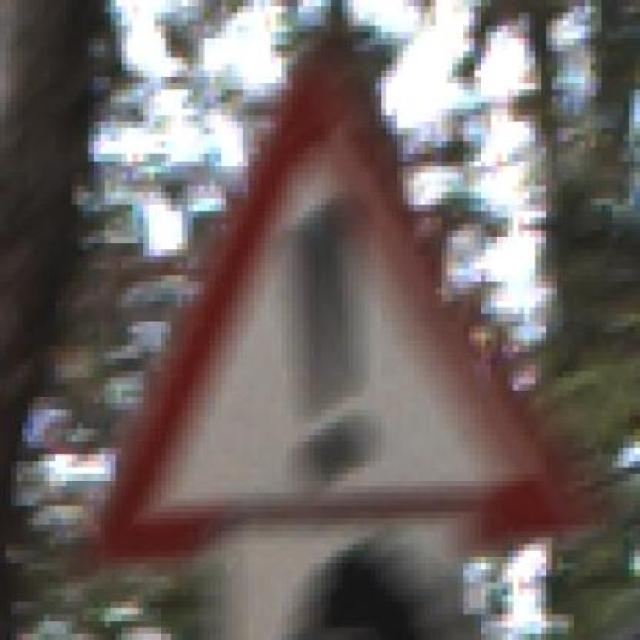Attention Please-: (89, 19, 586, 570)
